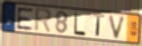8: (55, 11, 70, 35)
E: (16, 7, 34, 31)
L: (73, 11, 87, 38)
R: (33, 7, 53, 35)
T: (92, 13, 106, 38)
V: (108, 15, 128, 41)
